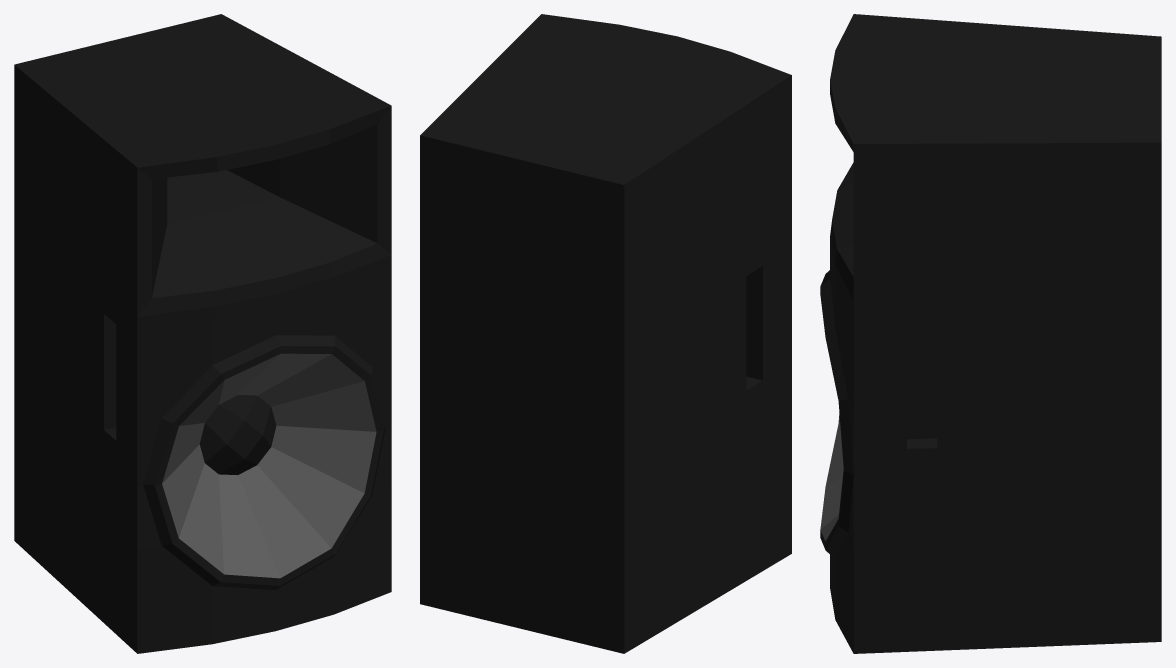
File: Int_Speakers01_1.fbx
3 renders of one model, left to right at view 1: azimuth 30°, elevation 25°; view 2: azimuth 150°, elevation 25°; view 3: azimuth 270°, elevation 25°, orthographic. The views are drawn at different scales.
Visible parts, largest first — view 1: Int_Speakers01_1; view 2: Int_Speakers01_1; view 3: Int_Speakers01_1.
Boxes of the visible parts, left/top/right/bottom form: Int_Speakers01_1: left=14, top=14, right=391, bottom=653; Int_Speakers01_1: left=420, top=14, right=791, bottom=653; Int_Speakers01_1: left=820, top=14, right=1161, bottom=653.
Size of what is drawn, in the model's own units: 65.92 by 73.05 by 120.
